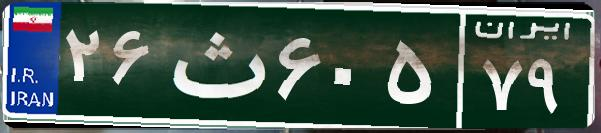0: (330, 28, 385, 110)
2: (57, 26, 110, 107)
5: (385, 28, 445, 110)
6: (273, 28, 330, 110), (110, 28, 158, 105)
7: (475, 38, 525, 113)
9: (525, 38, 570, 115)
ث: (158, 15, 273, 115)
